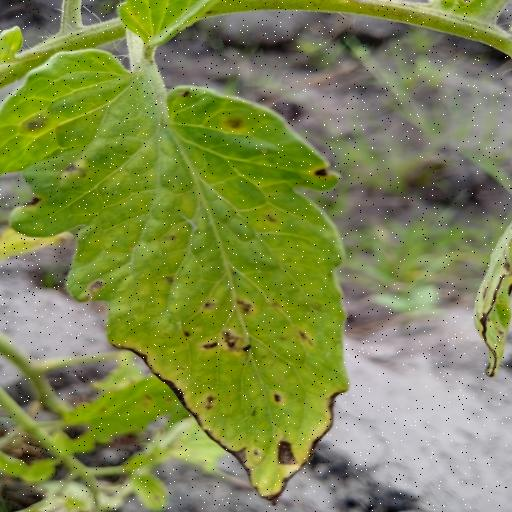Tomato_Brown_Spots: (0, 44, 351, 507)
